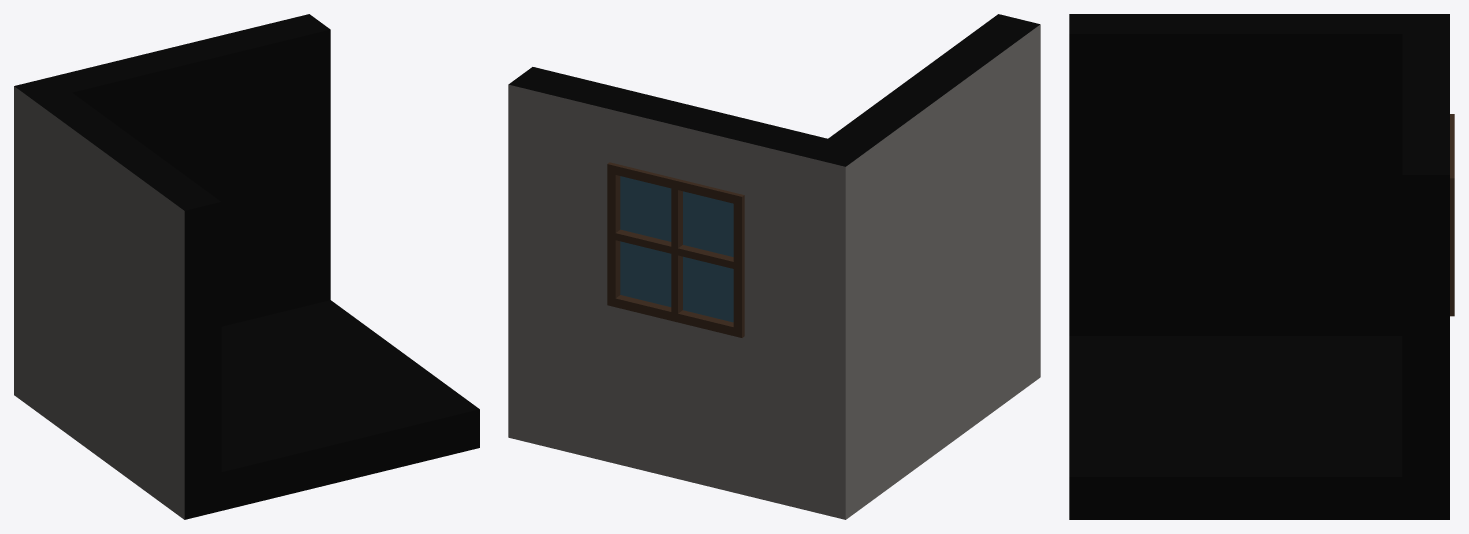
3 renders of one model, left to right at view 1: azimuth 30°, elevation 25°; view 2: azimuth 150°, elevation 25°; view 3: azimuth 270°, elevation 25°, orthographic. The views are drawn at different scales.
Parts seen in each view (by area): view 1: floor_wall.061; view 2: floor_wall.061; view 3: floor_wall.061.
Boxes of the visible parts, x1,y1,x2,y2 form: floor_wall.061: (14,14,479,519); floor_wall.061: (508,14,1040,519); floor_wall.061: (1069,14,1454,519).
Size of the model in its own units: 200 by 200 by 203.
